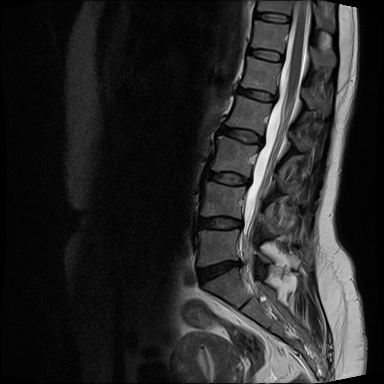Lumbar Disc Bulge (LDB): (188, 251, 249, 291), (211, 120, 269, 150), (194, 208, 248, 234), (230, 82, 281, 106), (199, 170, 258, 190)
Normal IVD: (242, 43, 285, 66), (248, 9, 294, 28)
Spinal Stenosis (SS): (245, 130, 270, 158), (264, 86, 282, 111), (239, 173, 257, 193), (232, 212, 248, 234), (230, 253, 247, 272)
